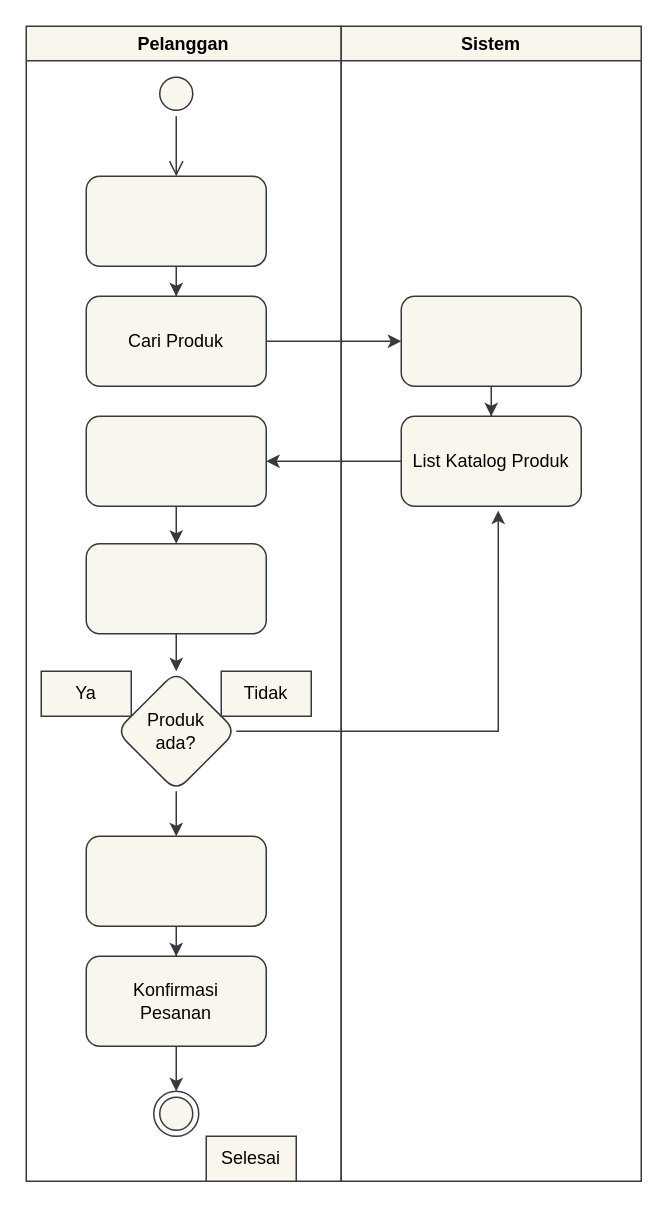
Image size: 668x1208. Some labels were removed from this diagram. Each missing label, with the centre of its shape:
"Buka Website" belongs at (175,220).
"Chat Whatsapp Produk" belongs at (175,588).
"Lakukan Pemesanan, Isi Alamat, Pembayaran" belongs at (175,880).
"Pilih Produk" belongs at (175,460).
"Tampilkan Hasil" belongs at (490,340).
